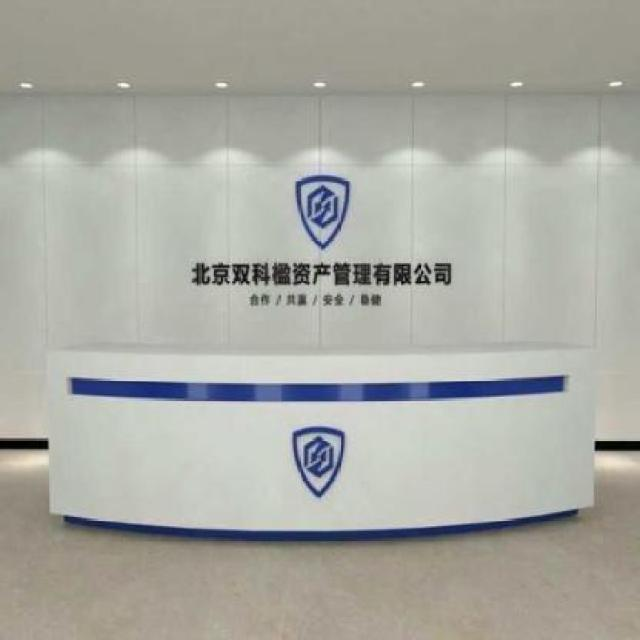frontdesk: (40, 337, 601, 541)
